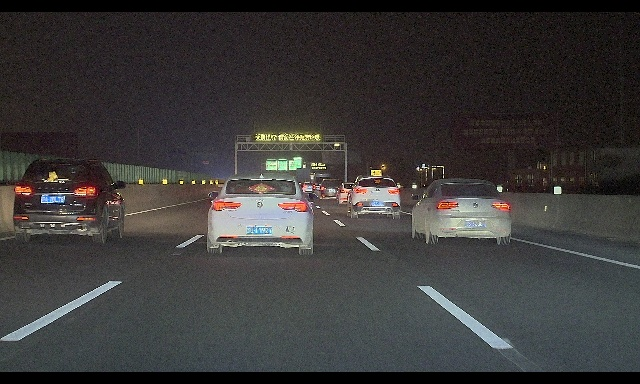car: (13, 158, 126, 245), (207, 172, 318, 255), (410, 178, 512, 245), (346, 174, 401, 219), (334, 182, 361, 207), (317, 179, 341, 200), (312, 172, 331, 195), (301, 182, 315, 194)
truck: (0, 131, 79, 197)
